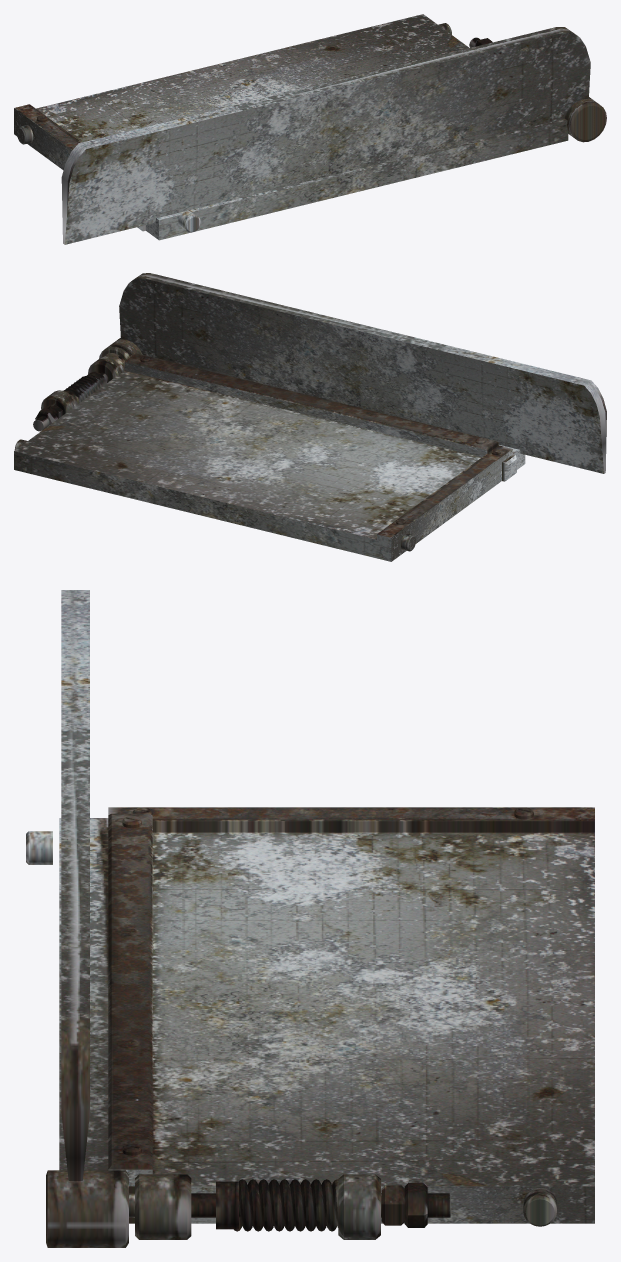
Rendered from daoxen.fbx.
3 views of the same model, one above another, from view 1: azimuth 30°, elevation 25°; view 2: azimuth 150°, elevation 25°; view 3: azimuth 270°, elevation 25° (orthographic). The views are drawn at different scales.
Parts seen in each view (by area): view 1: pCylinder6, pCube1, pCylinder5, pCylinder7; view 2: pCube1, pCylinder6, pCylinder4, pHelix1, pCylinder5, pCylinder1; view 3: pCube1, pCylinder6, pCylinder5, pHelix1, pCylinder4, pCylinder1, pCylinder3, pCylinder2, pCylinder13, pPrism2, pPrism1, pCylinder7.
Part boxes in pixels (<box>): pCylinder6: <box>61,27,590,244</box>; pCube1: <box>14,14,568,240</box>; pCylinder5: <box>564,97,606,142</box>; pCylinder7: <box>178,210,200,232</box>; pCube1: <box>14,353,525,561</box>; pCylinder6: <box>119,273,606,473</box>; pCylinder4: <box>88,353,124,382</box>; pHelix1: <box>63,375,101,404</box>; pCylinder5: <box>99,337,142,360</box>; pCylinder1: <box>41,390,76,414</box>; pCube1: <box>59,807,594,1223</box>; pCylinder6: <box>61,590,89,1180</box>; pCylinder5: <box>46,1170,128,1247</box>; pHelix1: <box>234,1179,338,1231</box>; pCylinder4: <box>135,1174,191,1239</box>; pCylinder1: <box>338,1174,380,1239</box>; pCylinder3: <box>129,1193,450,1217</box>; pCylinder2: <box>216,1181,238,1229</box>; pCylinder13: <box>523,1188,556,1226</box>; pPrism2: <box>404,1182,427,1227</box>; pPrism1: <box>381,1185,404,1225</box>; pCylinder7: <box>26,831,52,864</box>.
Bounding box in the file's own units: 28.14 × 5.61 × 14.03.
